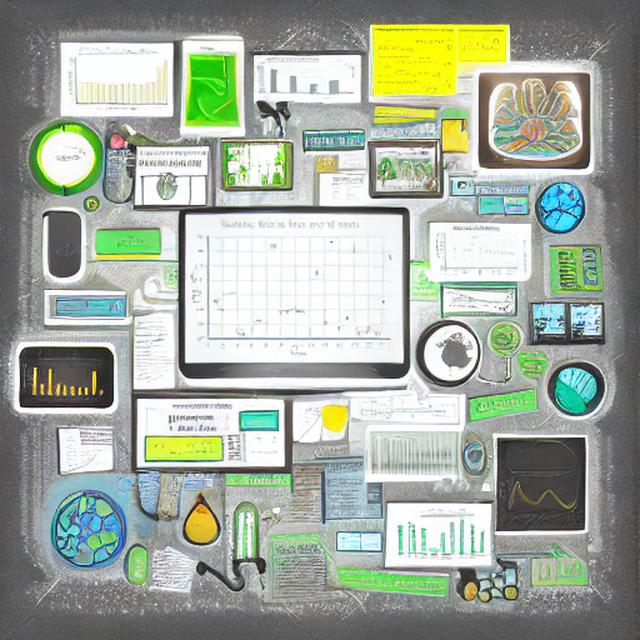Graph: (189, 217, 397, 360), (63, 50, 172, 114), (497, 470, 582, 531), (21, 355, 107, 408), (434, 225, 520, 275), (404, 513, 489, 563), (254, 58, 325, 99), (455, 31, 506, 61)
